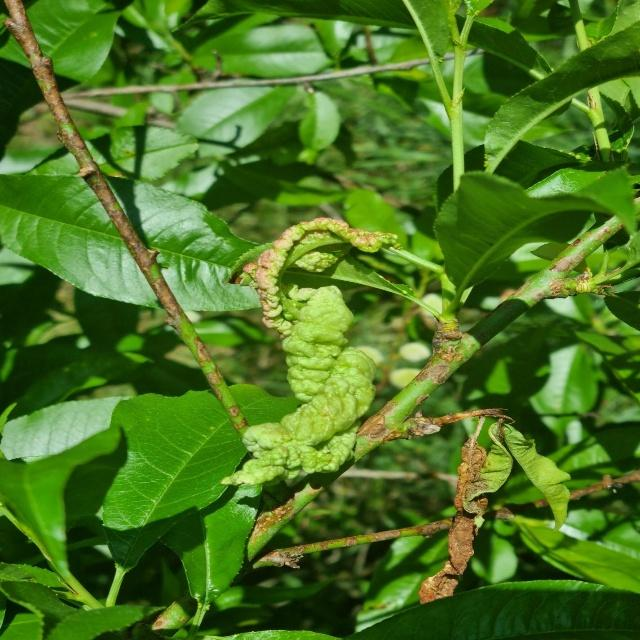leaf_curl: (26, 66, 429, 496), (249, 507, 515, 640)
